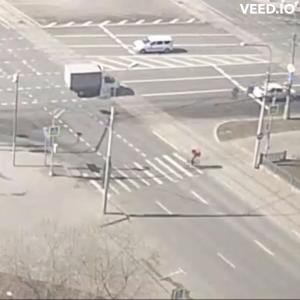car: (64, 65, 134, 101), (131, 38, 180, 55), (256, 82, 295, 102)
